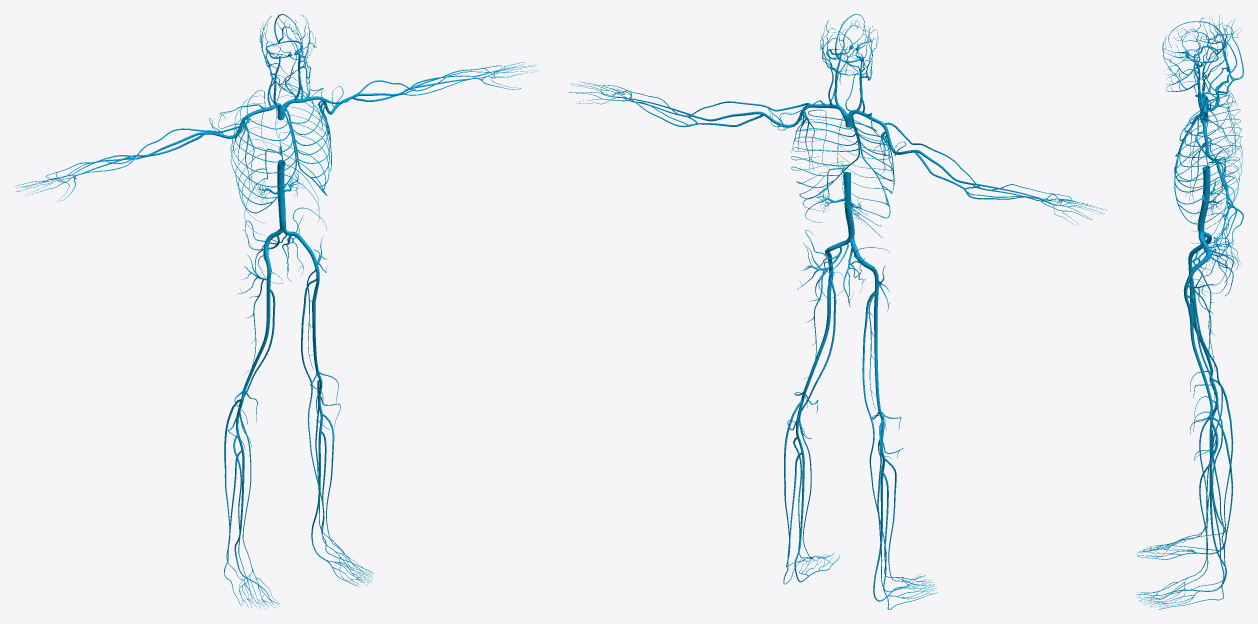
The model's file is Veins.fbx.
3 views of the same model, side by side, from view 1: azimuth 30°, elevation 25°; view 2: azimuth 150°, elevation 25°; view 3: azimuth 270°, elevation 25° (orthographic). The views are drawn at different scales.
Visible parts, largest first — view 1: Veins; view 2: Veins; view 3: Veins.
Part boxes in pixels (x1,y1,x2,y2): Veins: (14,14,538,609); Veins: (569,14,1106,609); Veins: (1136,14,1243,609).
Size of the model in its own units: 173 by 178 by 31.21.
